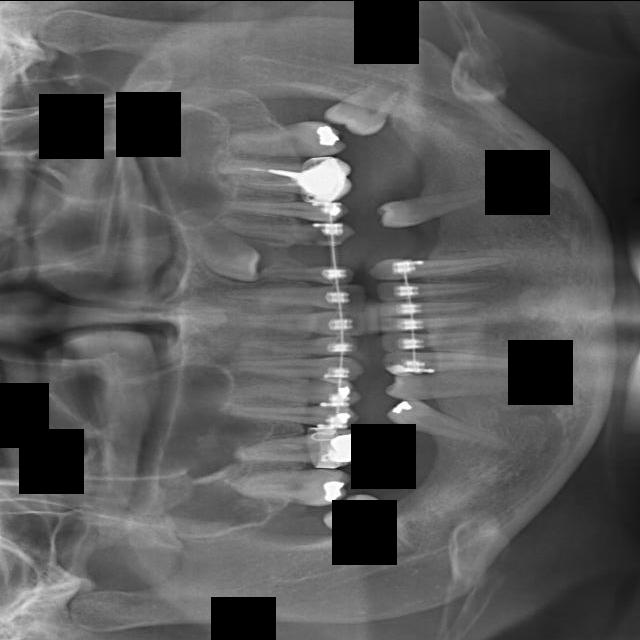AGS Medikal Implant: (263, 260, 358, 285)
AMerOss Implant: (135, 190, 275, 292)
Amalgam filling: (214, 217, 356, 249)
Anthogyr Implant: (221, 185, 337, 223)
Bicon Implant: (215, 148, 360, 199)
BioHorizons Implant: (226, 120, 339, 156)
Biomet 3i Implant: (318, 69, 397, 138)
Caries: (228, 460, 349, 507)
Composite filling: (380, 189, 493, 227)
Crown: (371, 255, 502, 282)
DENTSPLY Implant: (377, 277, 489, 294)
Dentatus Implant: (379, 302, 466, 314)
Dentis Implant: (377, 314, 480, 333)
Dentium Implant: (382, 332, 484, 351)
Euroteknika Implant: (382, 352, 512, 371)
Filling: (395, 373, 506, 399)
Frontier Implant: (391, 394, 501, 446)
Hiossen Implant: (236, 428, 360, 483)
Keystone Dental Implant: (329, 489, 416, 574)
MIS Implant: (220, 403, 358, 428)
Mandible: (222, 378, 360, 406)
Maxilla: (226, 355, 362, 385)
Megagen Implant: (227, 332, 357, 361)
Neodent Implant: (226, 310, 363, 332)
Neoss Implant: (228, 285, 366, 307)
